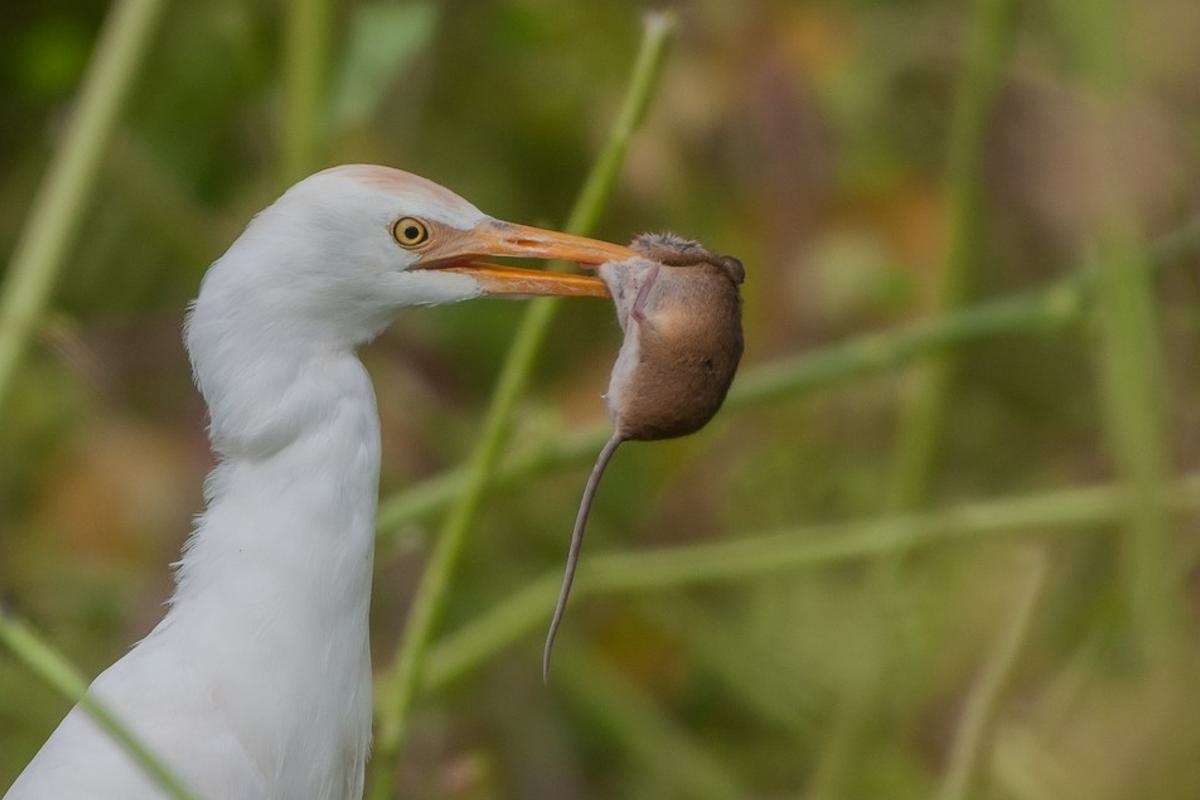egret: (12, 151, 673, 800)
